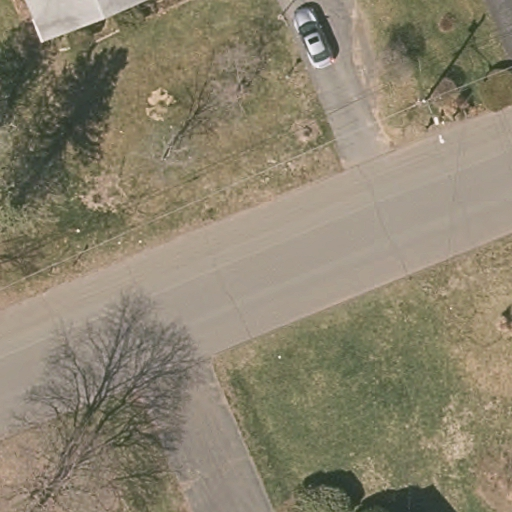DT: (415, 94, 449, 144)
